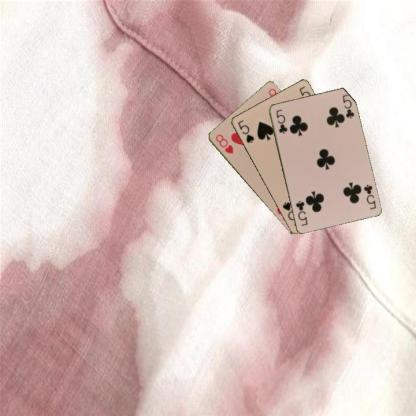5c: (360, 182, 376, 210), (274, 106, 288, 135)
5s: (235, 118, 256, 144)
8h: (212, 132, 235, 156)
